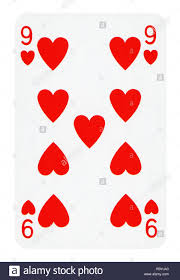nine of hearts: (16, 15, 166, 242)
